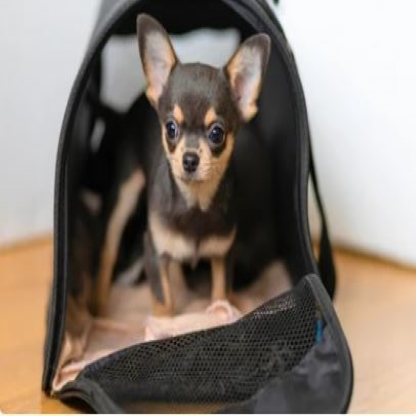chihuahua: (92, 13, 275, 321)
